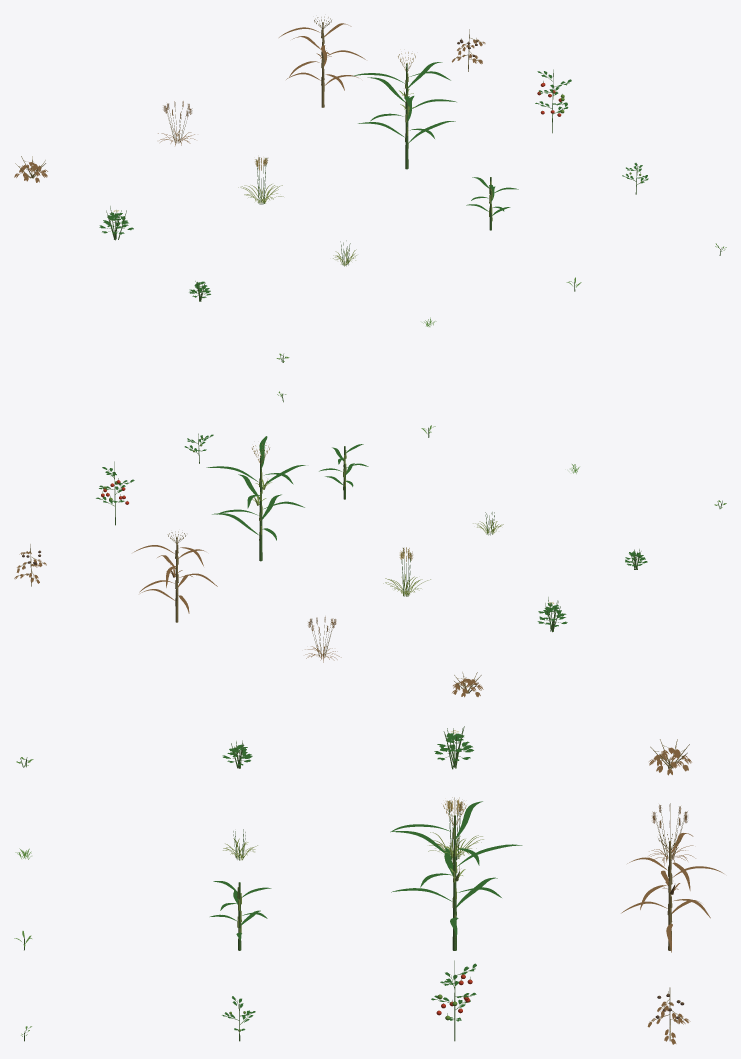
The model's file is PZ_Crops_All16_REFERENCE.glb.
The picture shows the model from 3 angles, top to bottom: view 1: azimuth 30°, elevation 25°; view 2: azimuth 150°, elevation 25°; view 3: azimuth 270°, elevation 25°; orthographic projection. The views are drawn at different scales.
Visible parts, largest first — view 1: PZ_Crop_Corn_Mature_02_Curved_Broad_Blades, PZ_Crop_Corn_Dead_02_Curved_Broad_Blades; view 2: PZ_Crop_Corn_Mature_02_Curved_Broad_Blades, PZ_Crop_Corn_Dead_02_Curved_Broad_Blades; view 3: PZ_Crop_Corn_Mature_02_Curved_Broad_Blades, PZ_Crop_Corn_Dead_02_Curved_Broad_Blades.
Part boxes in pixels (left/top/right/bottom): PZ_Crop_Corn_Mature_02_Curved_Broad_Blades: left=353, top=62, right=456, bottom=142; PZ_Crop_Corn_Dead_02_Curved_Broad_Blades: left=279, top=23, right=365, bottom=90; PZ_Crop_Corn_Mature_02_Curved_Broad_Blades: left=206, top=436, right=305, bottom=540; PZ_Crop_Corn_Dead_02_Curved_Broad_Blades: left=133, top=545, right=217, bottom=613; PZ_Crop_Corn_Mature_02_Curved_Broad_Blades: left=390, top=801, right=522, bottom=936; PZ_Crop_Corn_Dead_02_Curved_Broad_Blades: left=621, top=833, right=723, bottom=952.
Size of the model in its own units: 10 by 2.37 by 10.27.
Materials: 12 (12 with a texture image).
